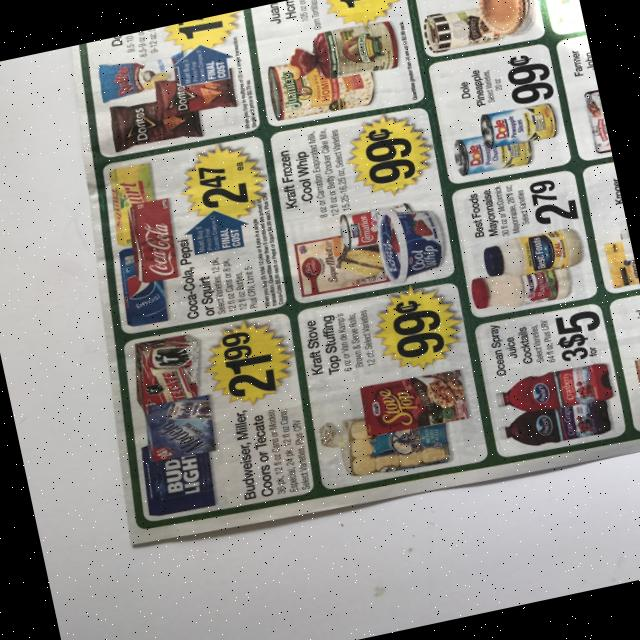paper: (26, 0, 640, 559)
